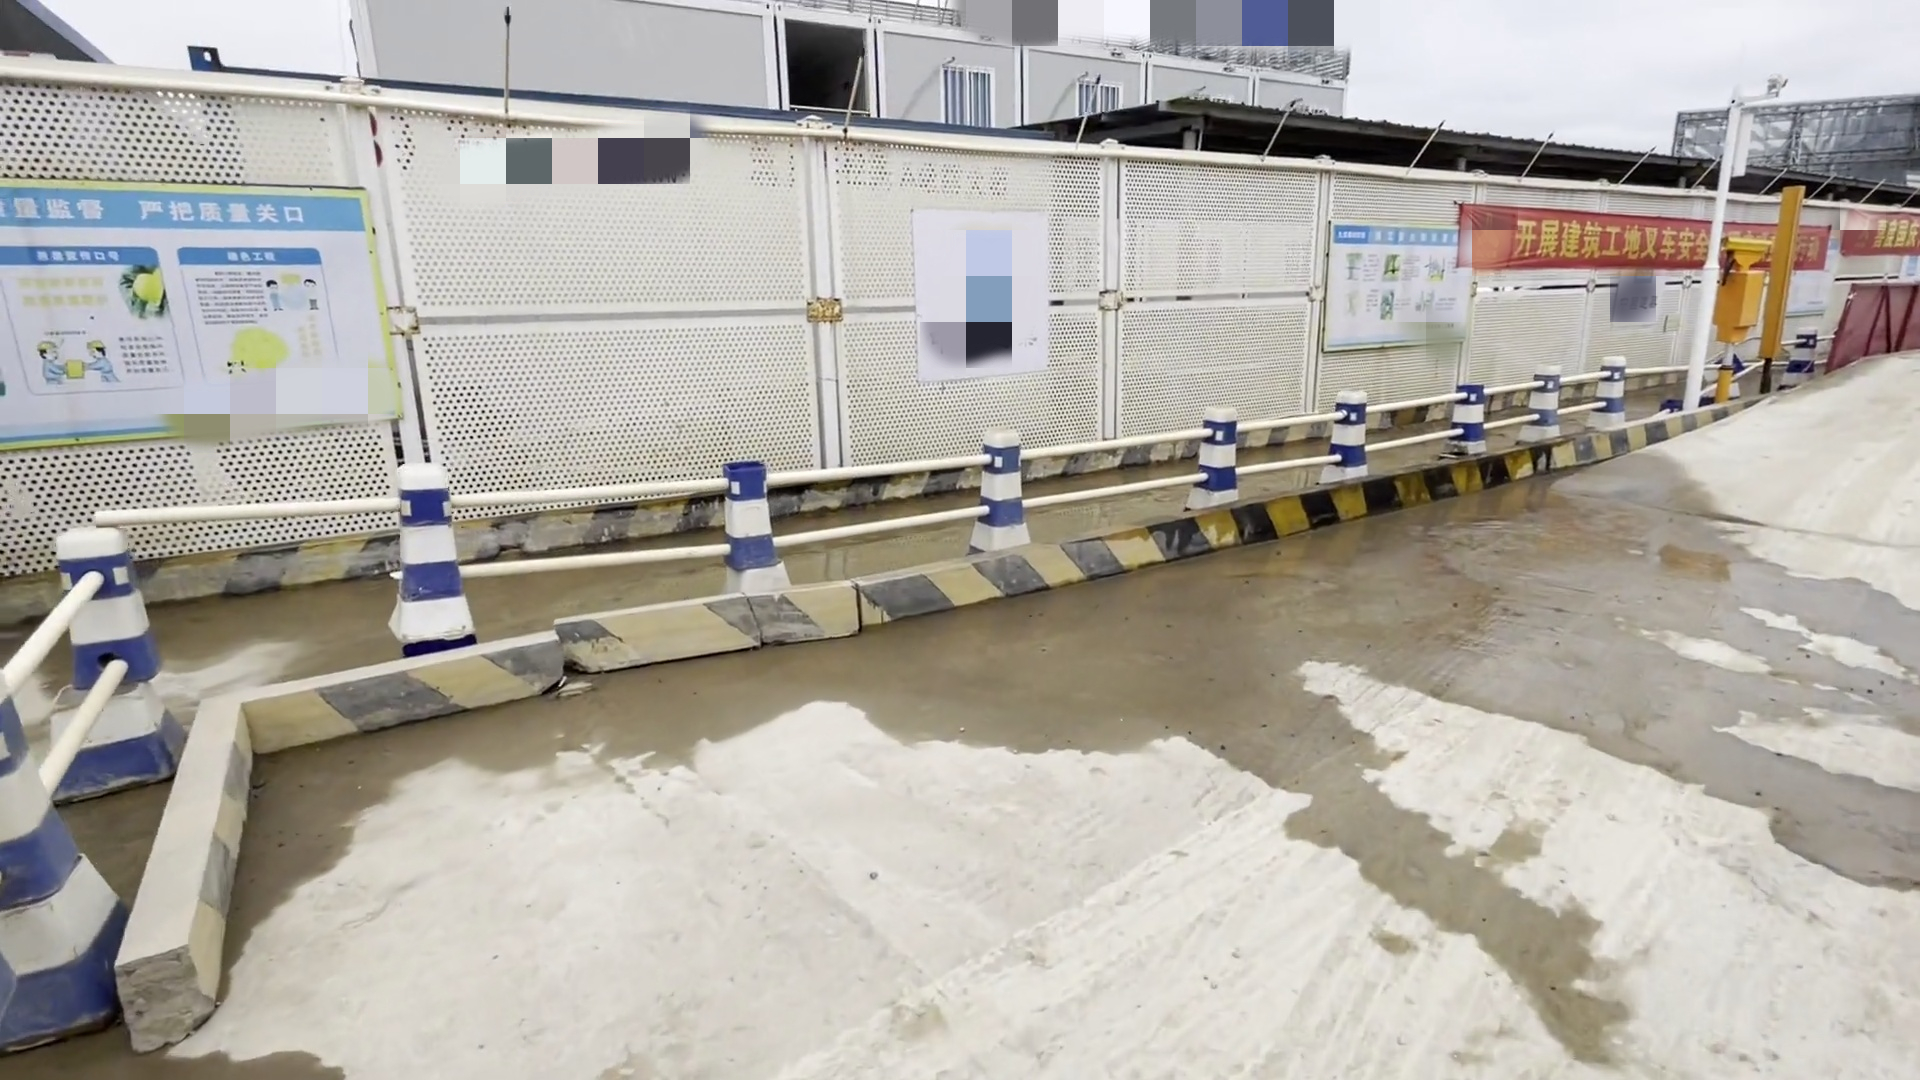fence: (1834, 285, 1920, 371)
slogan: (4, 175, 415, 479), (1458, 203, 1920, 287), (1323, 218, 1457, 349)
